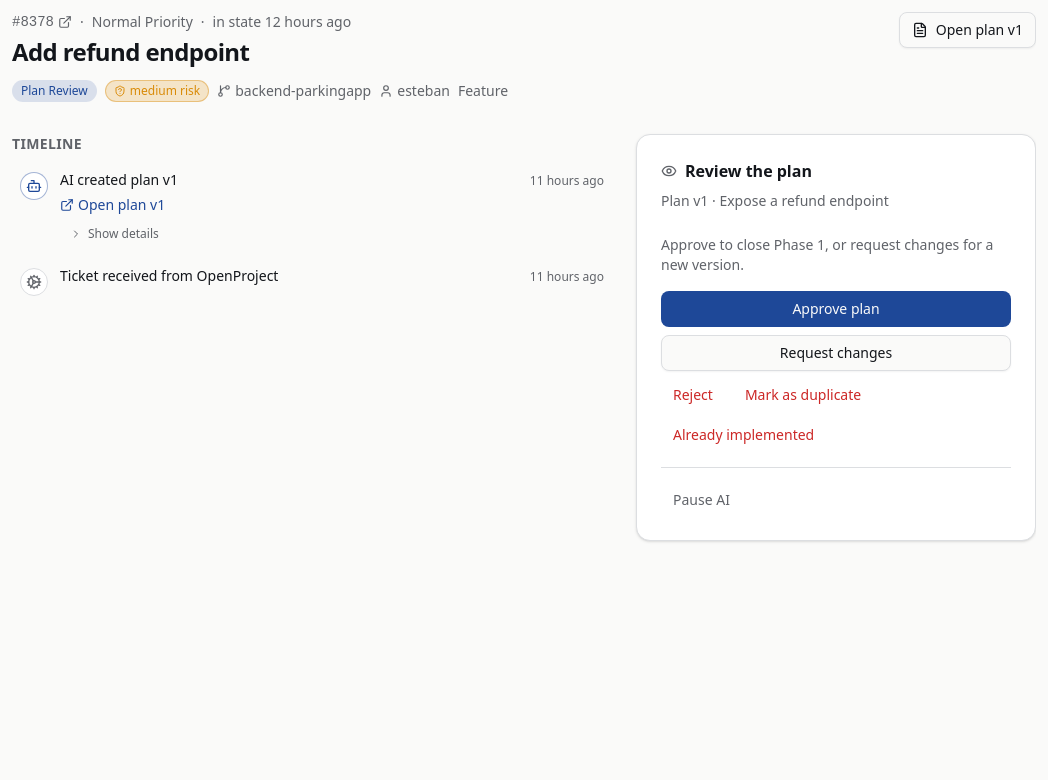
Test case: TicketPageContainer approve flow › surfaces a 409 from the server as an error toast
Expected: the heading "Add refund endpoint" is shown, [12,35,249,68]
Click the button "Approve plan" at (836, 309), box [661,291,1011,327]
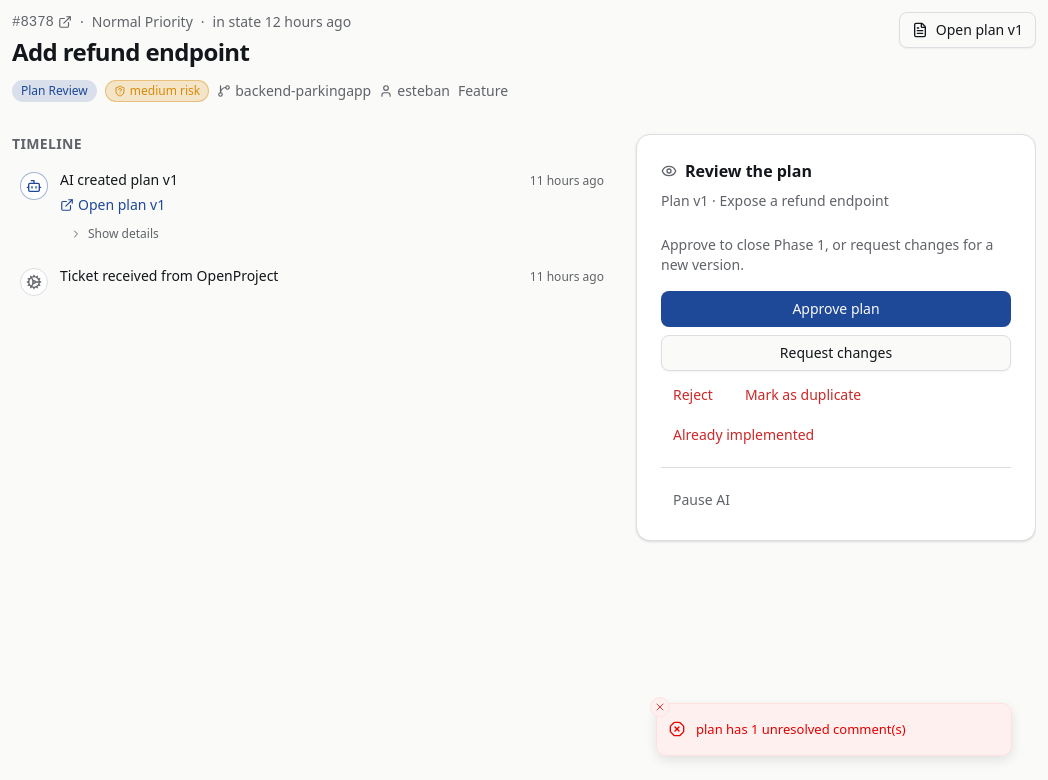
Expected: the text "plan has 1 unresolved comment(s)" is shown, [696,720,906,739]
